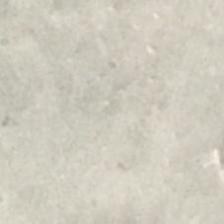Non_Crack: (3, 10, 224, 224)
